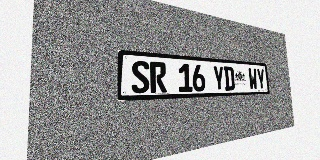1: (178, 63, 193, 92)
6: (192, 64, 206, 92)
D: (224, 66, 235, 91)
R: (150, 61, 167, 93)
S: (131, 60, 150, 93)
W: (248, 68, 258, 90)
Y: (213, 65, 225, 91), (256, 68, 266, 90)
